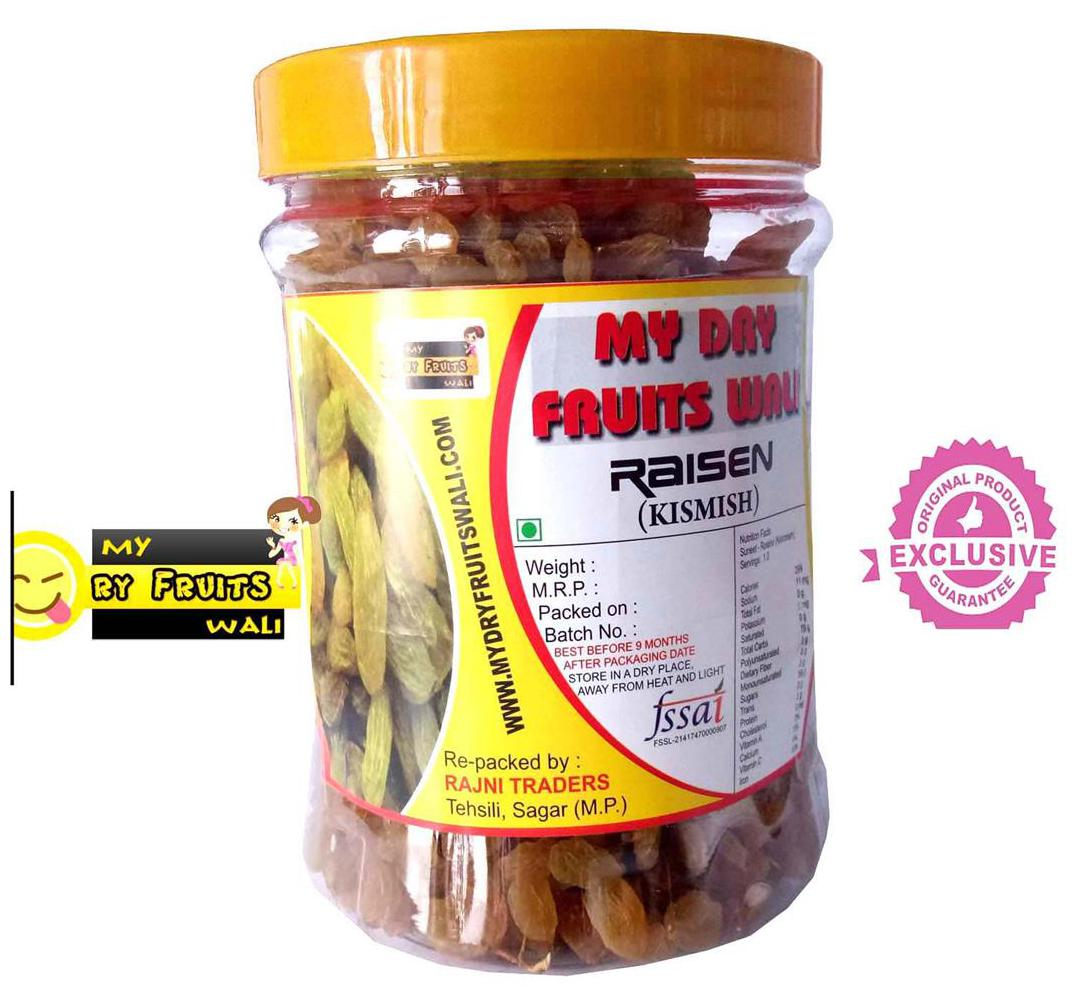fssai: (643, 680, 727, 732)
